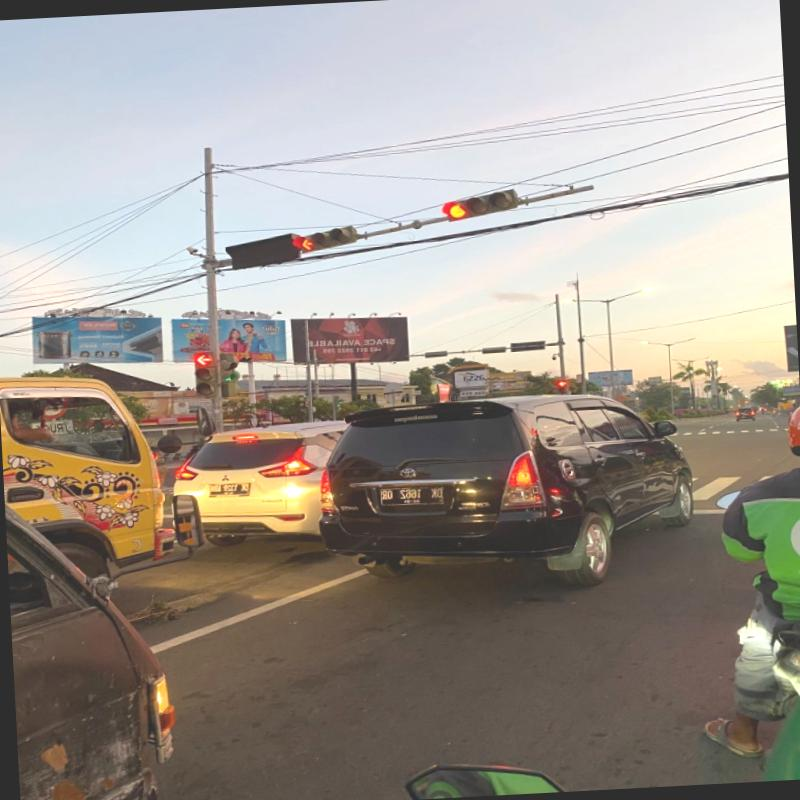license plate on a car: (379, 486, 444, 506), (208, 483, 249, 496)
